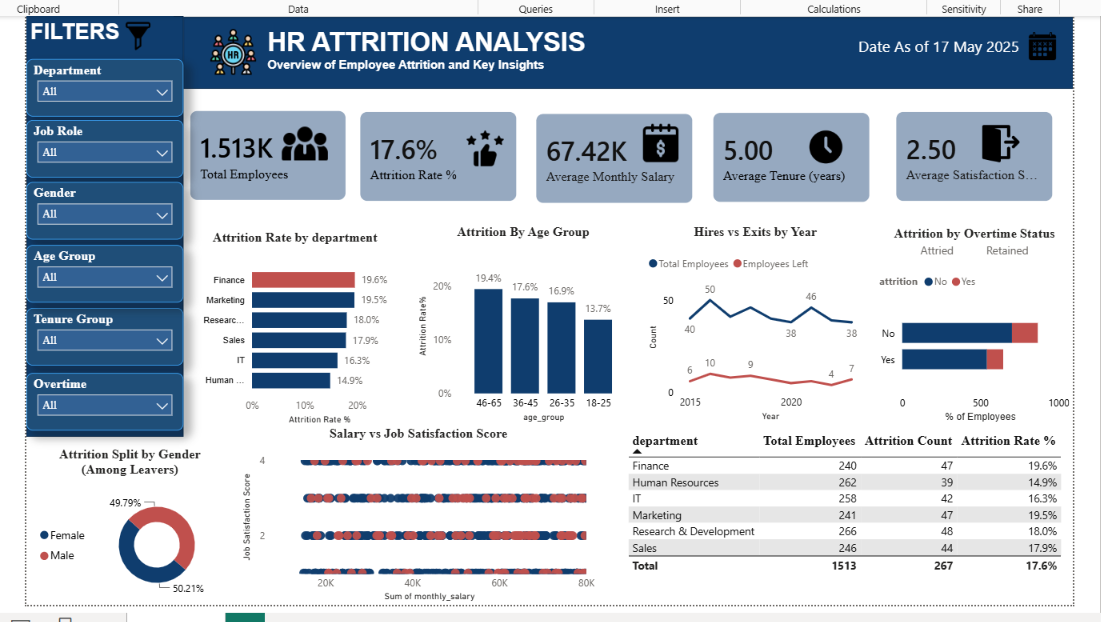

What the dashboard file says about the page in this screenshot:
{"tool":"powerbi","page":{"name":"dashboard","canvas":[1280,720],"ordinal":0},"visuals":[{"type":"shape","box":[192.1,1.4,1088.2,87.8],"z":0},{"type":"slicer","title":"Department","fields":{"Values":["hr_attrition_clean.department"]},"box":[0,52.1,192.1,70],"z":0,"group":"g3"},{"type":"cardVisual","fields":{"Data":["DAX Calculations.Total Employees"]},"box":[183.9,98.9,224,143.7],"z":1000},{"type":"slicer","title":"Job Role","fields":{"Values":["hr_attrition_clean.job_role"]},"box":[0,127.2,192.1,70],"z":1000,"group":"g3"},{"type":"barChart","title":"Attrition Rate by department","fields":{"Category":["hr_attrition_clean.department"],"Y":["DAX Calculations.Attrition Rate %"]},"box":[198.5,261.8,260.7,242.9],"z":1000,"group":"g1"},{"type":"textbox","box":[289.5,9.6,447.3,70],"z":2000},{"type":"slicer","title":"Gender","fields":{"Values":["hr_attrition_clean.gender"]},"box":[0,202.9,192.1,70],"z":2000,"group":"g3"},{"type":"columnChart","title":"Attrition By Age Group","fields":{"Category":["hr_attrition_clean.age_group"],"Y":["DAX Calculations.Attrition Rate %"]},"box":[475,254.9,266.2,247],"z":2000,"group":"g1"},{"type":"cardVisual","fields":{"Data":["DAX Calculations.Attrition Rate %"]},"box":[391.3,100,225.8,143.7],"z":3000},{"type":"lineChart","title":"Hires vs Exits by Year","fields":{"Category":["hr_attrition_clean.hire_date.Variation.Date Hierarchy.Year"],"Y":["DAX Calculations.Total Employees","DAX Calculations.Employees Left"]},"box":[756.3,255,271.7,245.6],"z":3000,"group":"g1"},{"type":"slicer","title":"Tenure Group","fields":{"Values":["hr_attrition_clean.tenure_group"]},"box":[0,356.5,192.1,70],"z":3000,"group":"g3"},{"type":"cardVisual","fields":{"Data":["DAX Calculations.Average Monthly Salary"]},"box":[606.2,103.3,225.8,143.7],"z":4000},{"type":"barChart","title":"Attrition by Overtime Status","fields":{"Category":["hr_attrition_clean.overtime"],"Series":["hr_attrition_clean.attrition"],"Y":["DAX Calculations.Total Employees"]},"box":[1038.1,257.2,242.2,244.7],"z":4000,"group":"g1"},{"type":"slicer","title":"Age Group","fields":{"Values":["hr_attrition_clean.age_group"]},"box":[0,279.7,192.1,70],"z":4000,"group":"g3"},{"type":"group","id":"g1","title":"Group 2","box":[198.5,254.9,1081.8,249.7],"z":5000},{"type":"slicer","title":"Overtime","fields":{"Values":["hr_attrition_clean.overtime"]},"box":[0,436.1,192.1,70],"z":5000,"group":"g3"},{"type":"donutChart","title":"Attrition Split by Gender (Among Leavers)","fields":{"Category":["hr_attrition_clean.gender"],"Y":["CountNonNull(hr_attrition_clean.employee_id)"]},"box":[11,526.9,231.2,193],"z":5000,"group":"g2"},{"type":"cardVisual","fields":{"Data":["DAX Calculations.Average Tenure (years)"]},"box":[822.5,101,225.8,143.7],"z":6000},{"type":"scatterChart","title":"Salary vs Job Satisfaction Score","fields":{"Category":["hr_attrition_clean.employee_id"],"Series":["hr_attrition_clean.attrition"],"X":["Sum(hr_attrition_clean.monthly_salary)"],"Y":["Sum(hr_attrition_clean.job_satisfaction)"]},"box":[258.8,500.9,440.5,219.6],"z":6000,"group":"g2"},{"type":"group","id":"g2","title":"Group 3","box":[11,500.9,1268,219.6],"z":7000},{"type":"tableEx","fields":{"Values":["hr_attrition_clean.department","DAX Calculations.Total Employees","DAX Calculations.Attrition Count","DAX Calculations.Attrition Rate %"]},"box":[730.1,503.8,548.9,214.1],"z":7000,"group":"g2"},{"type":"cardVisual","fields":{"Data":["DAX Calculations.Average Satisfaction Score"]},"box":[1046.3,100.5,225.8,143.7],"z":8000},{"type":"shape","box":[0,0,192.1,514.6],"z":9000},{"type":"textbox","box":[0,0,179.8,41.2],"z":10000},{"type":"group","id":"g3","title":"Group 4","box":[0,52.1,192.1,452.8],"z":11000},{"type":"image","box":[199,16.5,107,56.3],"z":12000},{"type":"textbox","box":[1012.7,19.2,227.8,43.9],"z":13000},{"type":"image","box":[1204.8,19.2,75.5,34.3],"z":14000},{"type":"image","box":[118,6.9,35.7,34.3],"z":15000},{"type":"image","box":[503.6,135.8,113.9,52.1],"z":16000},{"type":"image","box":[942.7,138.6,70,43.9],"z":17000},{"type":"image","box":[734.1,129,83.7,53.5],"z":18000},{"type":"image","box":[306,126.2,70,60.4],"z":19000},{"type":"image","box":[1159.5,133.1,64.5,45.3],"z":20000}]}

Visuals, with their boxes in screenshot pixels (x1, y1, x2, y2):
shape: (x1=183, y1=13, x2=1100, y2=87)
"Department" slicer: (x1=20, y1=56, x2=183, y2=115)
cardVisual - DAX Calculations.Total Employees: (x1=176, y1=95, x2=366, y2=217)
"Job Role" slicer: (x1=20, y1=119, x2=183, y2=179)
"Attrition Rate by department" barChart: (x1=188, y1=234, x2=410, y2=440)
textbox: (x1=266, y1=20, x2=645, y2=79)
"Gender" slicer: (x1=20, y1=184, x2=183, y2=243)
"Attrition By Age Group" columnChart: (x1=423, y1=228, x2=649, y2=437)
cardVisual - DAX Calculations.Attrition Rate %: (x1=352, y1=96, x2=544, y2=218)
"Hires vs Exits by Year" lineChart: (x1=662, y1=228, x2=892, y2=436)
"Tenure Group" slicer: (x1=20, y1=314, x2=183, y2=373)
cardVisual - DAX Calculations.Average Monthly Salary: (x1=534, y1=99, x2=726, y2=221)
"Attrition by Overtime Status" barChart: (x1=901, y1=230, x2=1100, y2=437)
"Age Group" slicer: (x1=20, y1=249, x2=183, y2=308)
"Group 2" group: (x1=188, y1=228, x2=1100, y2=440)
"Overtime" slicer: (x1=20, y1=381, x2=183, y2=441)
"Attrition Split by Gender (Among Leavers)" donutChart: (x1=29, y1=458, x2=226, y2=621)
cardVisual - DAX Calculations.Average Tenure (years): (x1=718, y1=97, x2=909, y2=219)
"Salary vs Job Satisfaction Score" scatterChart: (x1=240, y1=436, x2=613, y2=621)
"Group 3" group: (x1=29, y1=436, x2=1100, y2=621)
tableEx - hr_attrition_clean.department x DAX Calculations.Total Employees: (x1=639, y1=439, x2=1100, y2=620)
cardVisual - DAX Calculations.Average Satisfaction Score: (x1=908, y1=97, x2=1099, y2=219)
shape: (x1=20, y1=11, x2=183, y2=448)
textbox: (x1=20, y1=11, x2=173, y2=46)
"Group 4" group: (x1=20, y1=56, x2=183, y2=440)
image: (x1=189, y1=25, x2=280, y2=73)
textbox: (x1=879, y1=28, x2=1072, y2=65)
image: (x1=1042, y1=28, x2=1100, y2=57)
image: (x1=120, y1=17, x2=150, y2=46)
image: (x1=447, y1=127, x2=544, y2=171)
image: (x1=820, y1=129, x2=879, y2=166)
image: (x1=643, y1=121, x2=714, y2=166)
image: (x1=280, y1=119, x2=339, y2=170)
image: (x1=1004, y1=124, x2=1058, y2=163)
